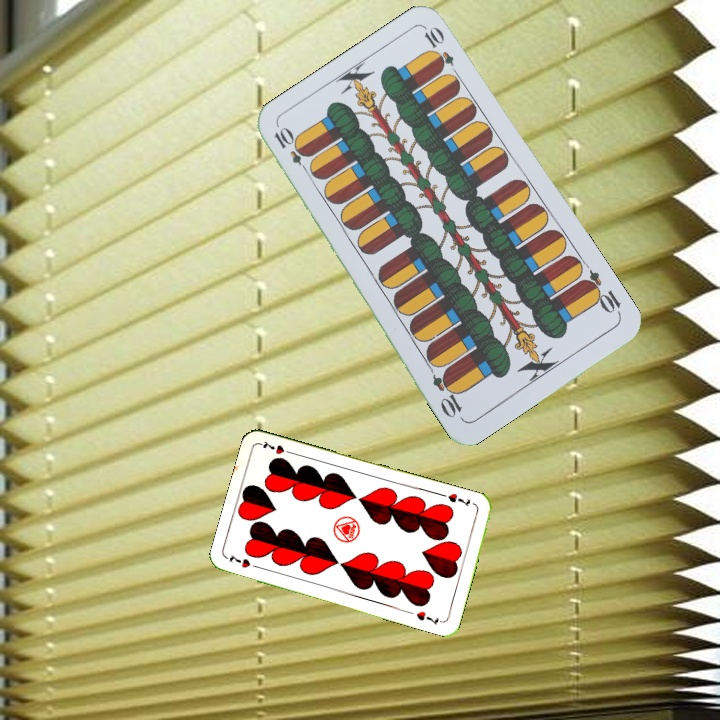E10: (577, 266, 624, 318), (270, 123, 314, 177)
H7: (223, 550, 263, 572), (444, 489, 473, 509)
